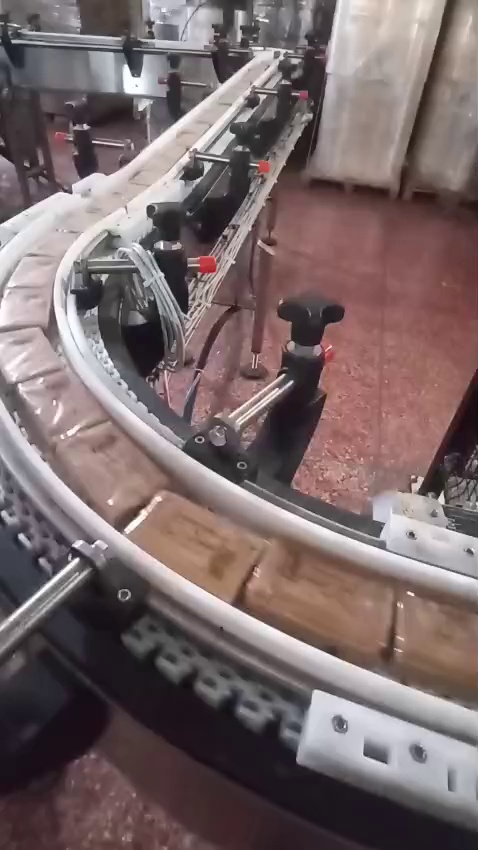savon: (143, 511, 310, 600), (401, 0, 458, 170), (256, 575, 364, 663), (388, 607, 478, 698), (366, 582, 399, 616), (112, 0, 129, 16), (448, 598, 464, 610)
